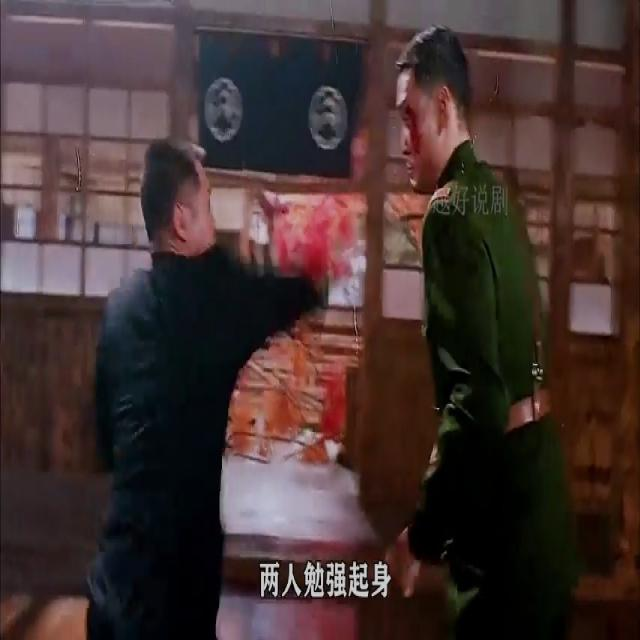fight: (66, 17, 640, 639)
